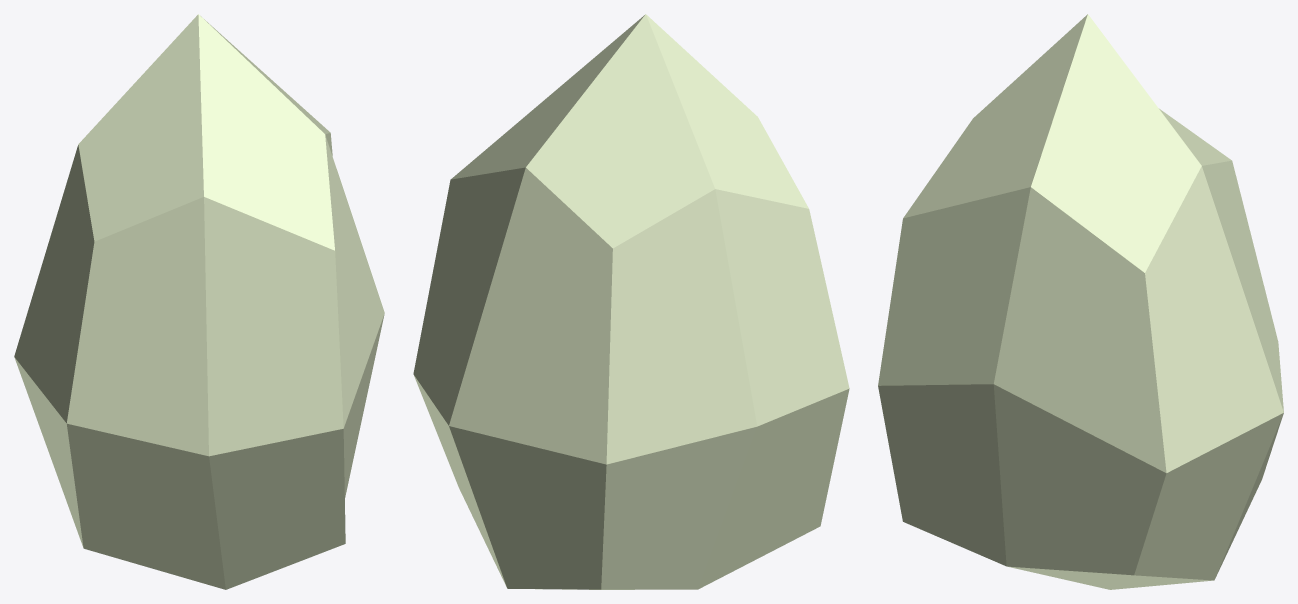
Rendered from seed.fbx.
The picture shows the model from 3 angles, left to right: view 1: azimuth 30°, elevation 25°; view 2: azimuth 150°, elevation 25°; view 3: azimuth 270°, elevation 25°; orthographic projection. The views are drawn at different scales.
Visible parts, largest first — view 1: Cube; view 2: Cube; view 3: Cube.
Part boxes in pixels (x1,y1,x2,y2): Cube: (14,14,384,589); Cube: (413,14,849,589); Cube: (878,14,1283,589).
Size of the model in its own units: 206 by 313 by 205.
